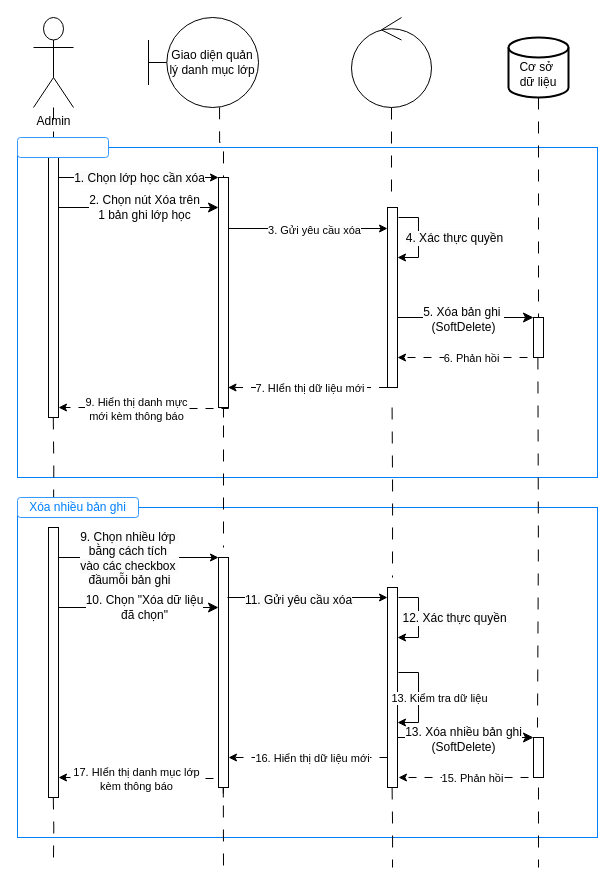
This 615x886 diagram has some shape labels left out. The shapes that lost their labels are listed below. From the top down, each one's centre as x and y in pixels, then its label:
the point at 391,62: Dữ liệu controller
the point at 62,147: Xóa 1 bản ghi
